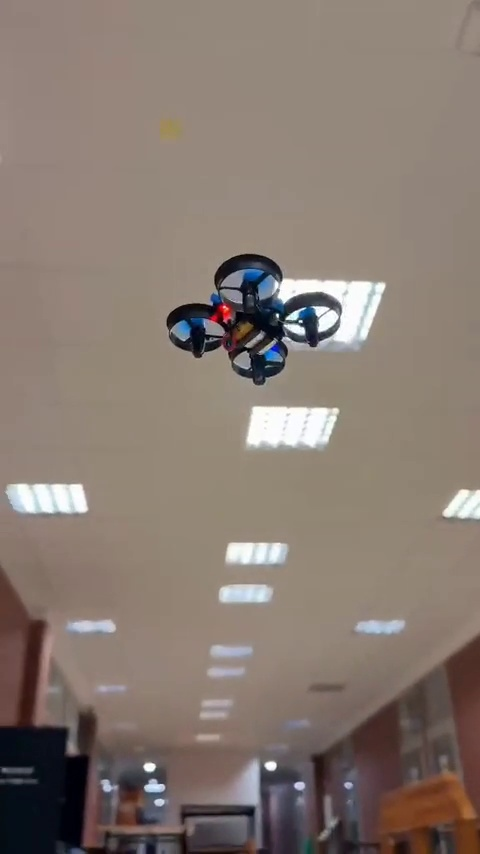drone: (162, 255, 346, 397)
